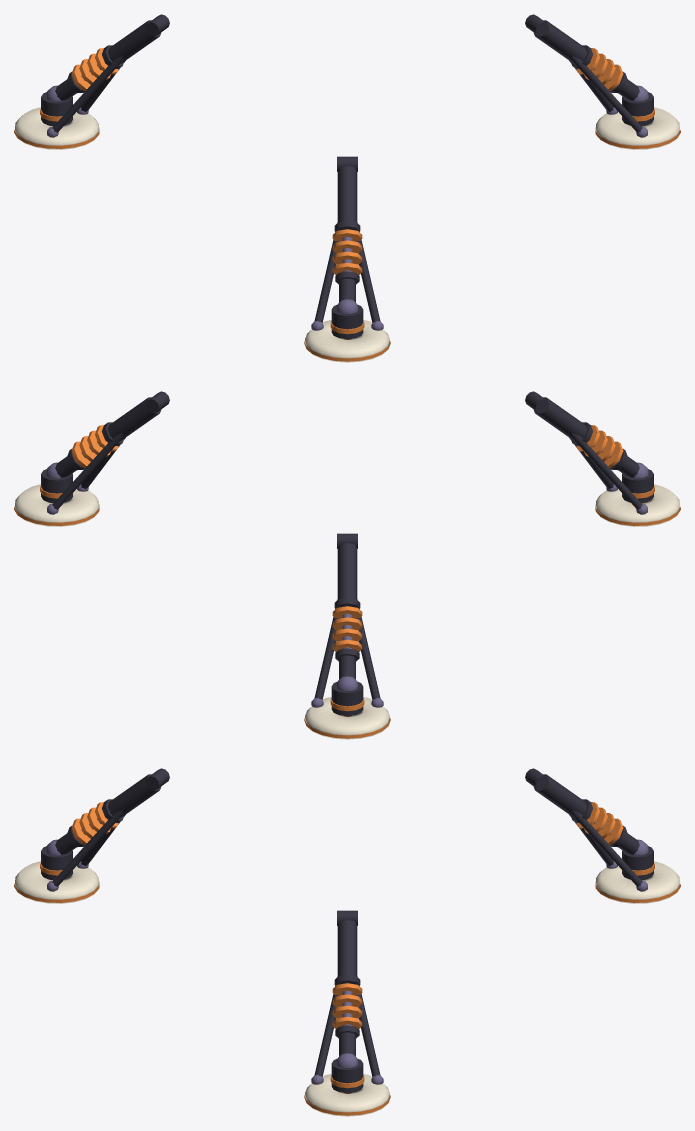
The model's file is landing_system__asteroid.glb.
The picture shows the model from 3 angles, top to bottom: view 1: azimuth 30°, elevation 25°; view 2: azimuth 150°, elevation 25°; view 3: azimuth 270°, elevation 25°; orthographic projection.
Visible parts, largest first — view 1: leg_3, leg_1, leg_2; view 2: leg_2, leg_1, leg_3; view 3: leg_1, leg_2, leg_3.
Boxes of the visible parts, bbox=[...] form: leg_3: bbox=[304, 156, 390, 362]; leg_1: bbox=[525, 14, 680, 149]; leg_2: bbox=[14, 14, 169, 149]; leg_2: bbox=[304, 533, 390, 739]; leg_1: bbox=[14, 391, 169, 526]; leg_3: bbox=[525, 391, 680, 526]; leg_1: bbox=[304, 910, 390, 1116]; leg_2: bbox=[525, 768, 680, 903]; leg_3: bbox=[14, 768, 169, 903].
Bounding box in the file's own units: 1.67 × 0.4309 × 1.89.
